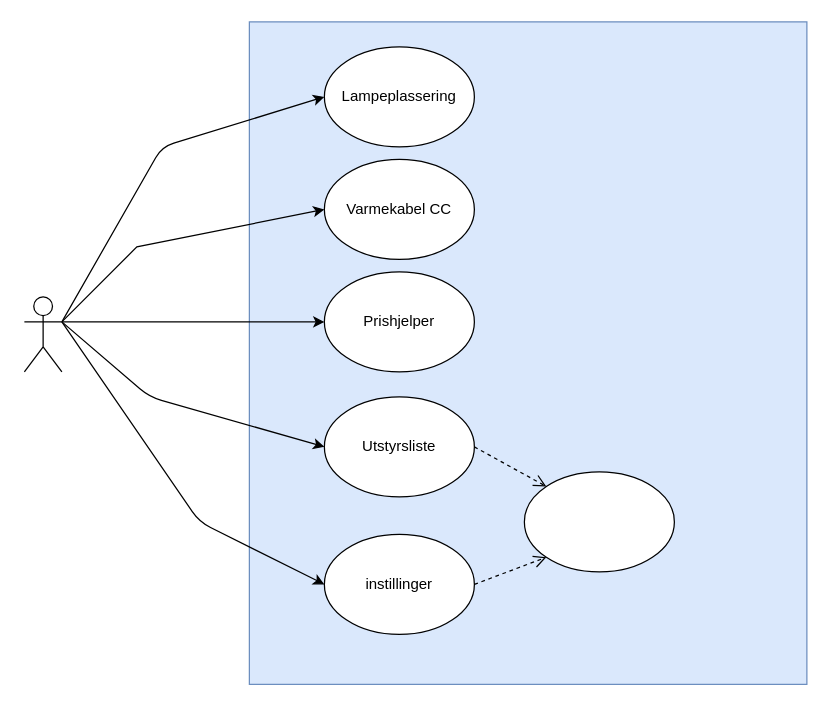
Image size: 829x706. Some labels were removed from this diagram. The centre of each missing label's shape, as x and y in pixels:
"Bruker" belongs at point (42, 334).
"lagring" belongs at point (598, 521).
